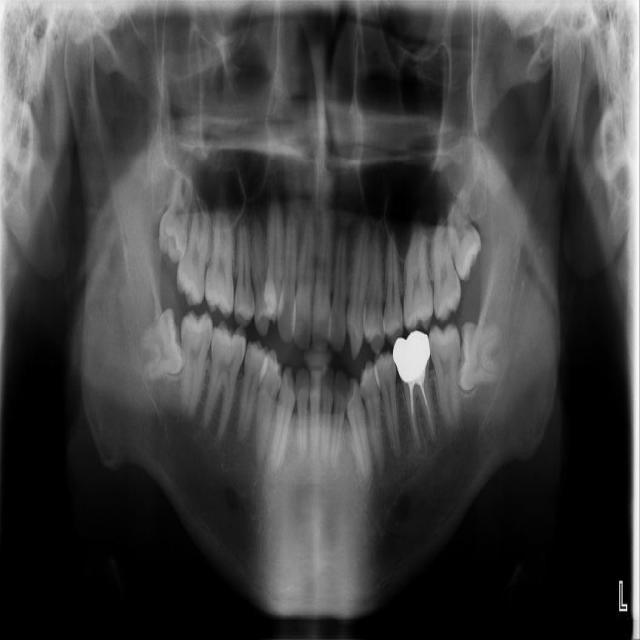3M ESPE Implant: (156, 169, 196, 264)
52: (386, 327, 440, 383)
73: (400, 367, 439, 455), (576, 567, 580, 575)
BioHorizons Implant: (430, 216, 462, 323)
BioLife Implant: (437, 188, 489, 283)
Biomet 3i Implant: (455, 320, 503, 394)
Blue Sky Bio Implant: (427, 322, 464, 432)
Caries: (174, 194, 213, 308)
Implant: (174, 309, 215, 421)
Keystone Dental Implant: (135, 306, 192, 383)
